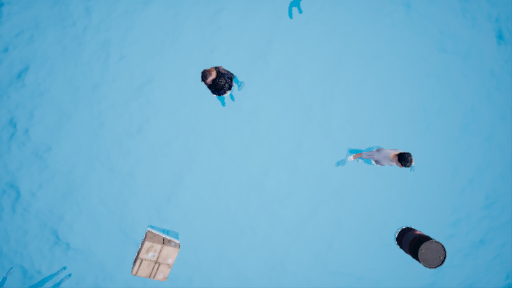person: (338, 140, 431, 186), (193, 63, 253, 117)
